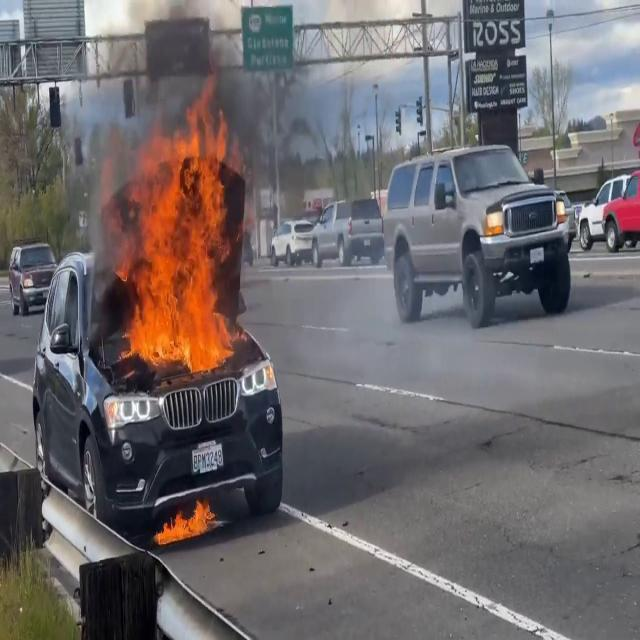Fire: (120, 89, 240, 377), (156, 494, 222, 547)
Smoke: (199, 34, 327, 194)
